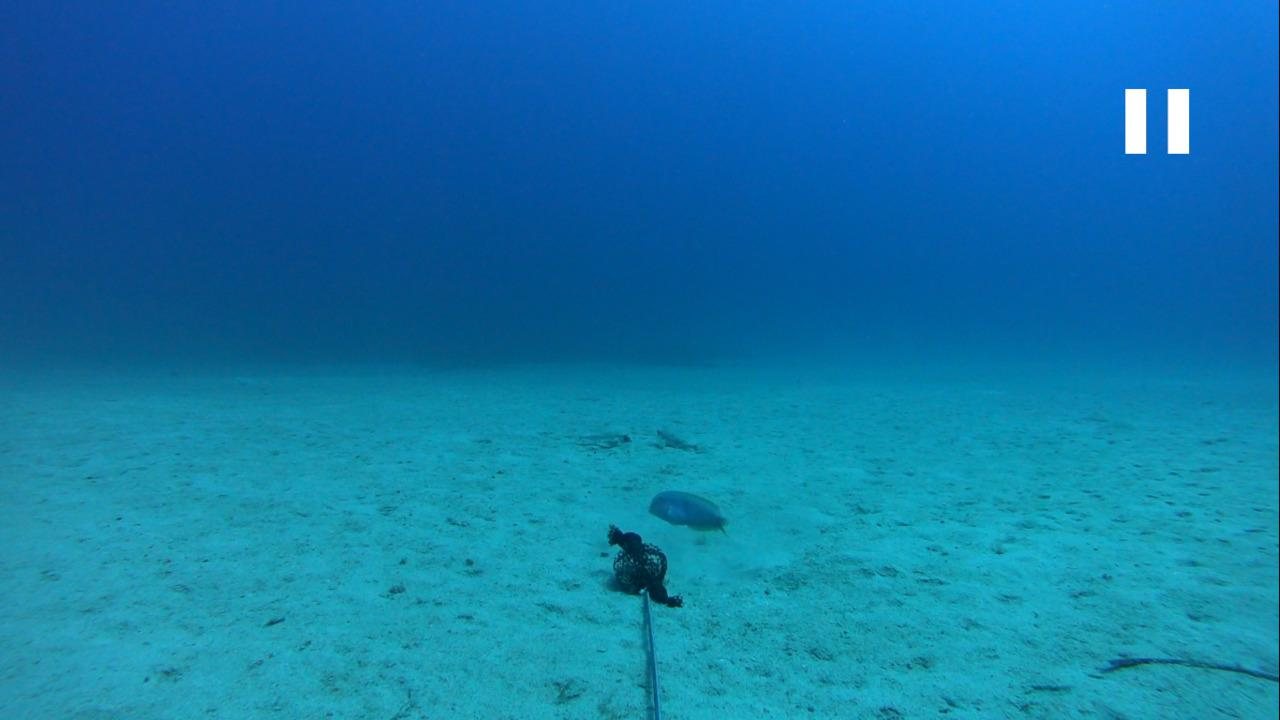dactylopterus: (643, 419, 709, 463), (558, 423, 640, 458)
raor: (643, 485, 735, 534)
